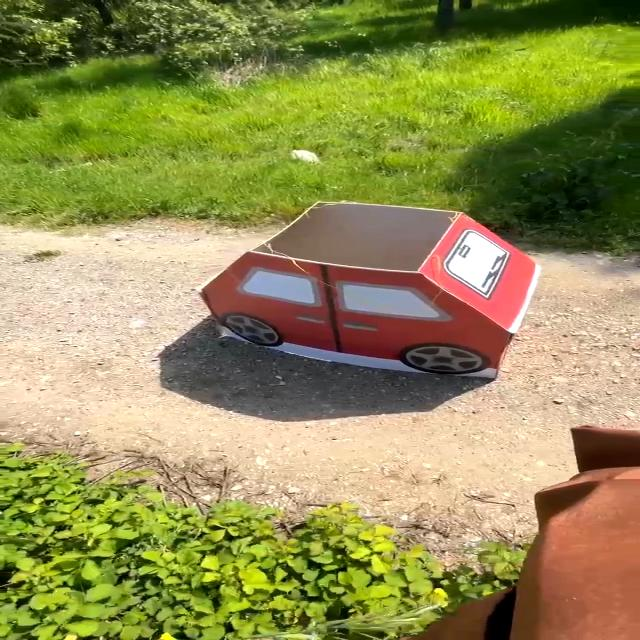red_car: (187, 191, 589, 397)
